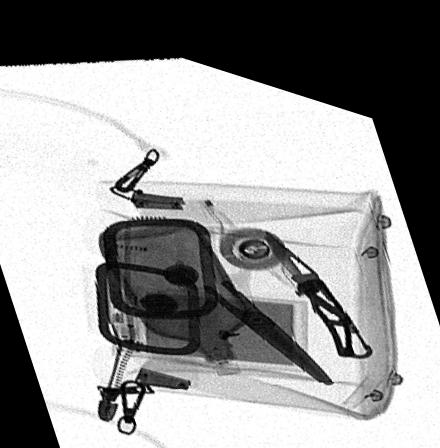Knife: (265, 211, 373, 338)
Powerbank: (112, 280, 306, 356)
Scissors: (127, 212, 336, 366)
